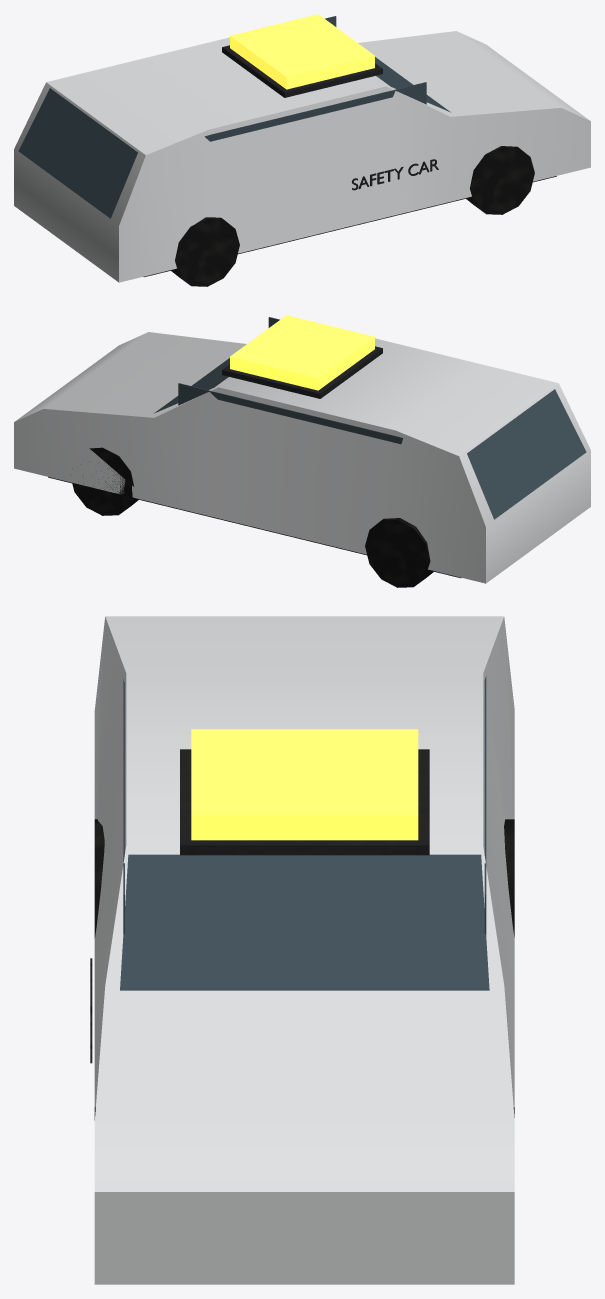
Rendered from safety_car.glb.
3 views of the same model, one above another, from view 1: azimuth 30°, elevation 25°; view 2: azimuth 150°, elevation 25°; view 3: azimuth 270°, elevation 25° (orthographic). The views are drawn at different scales.
Parts seen in each view (by area): view 1: safety_car; view 2: safety_car; view 3: safety_car.
Boxes of the visible parts, left/top/right/bottom form: safety_car: left=14, top=14, right=590, bottom=286; safety_car: left=14, top=315, right=590, bottom=587; safety_car: left=90, top=616, right=514, bottom=1284.
Size of the model in its own units: 4.82 by 1.62 by 1.87.
Materials: 5 (2 with a texture image).
